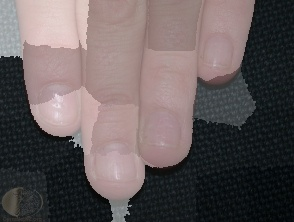Nail_psoriasis: (134, 93, 194, 163), (83, 134, 145, 197), (193, 22, 246, 83), (31, 75, 83, 132)
